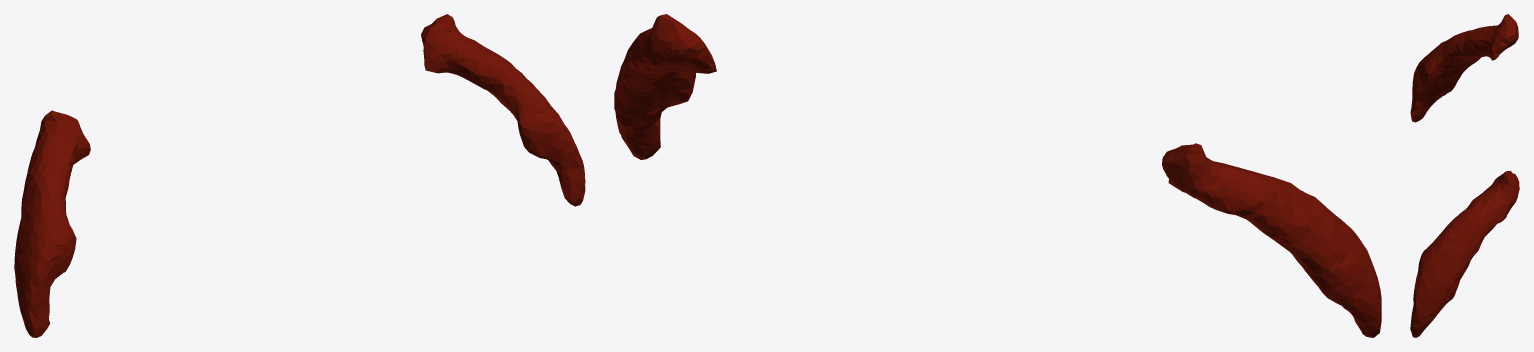
Rendered from 115-Tpt-temporoparietal cortex-('0.4980', '0.0745', '0.0000').obj.
3 renders of one model, left to right at view 1: azimuth 30°, elevation 25°; view 2: azimuth 150°, elevation 25°; view 3: azimuth 270°, elevation 25°, orthographic. The views are drawn at different scales.
Size of the model in its own units: 362 by 104 by 74.9.
